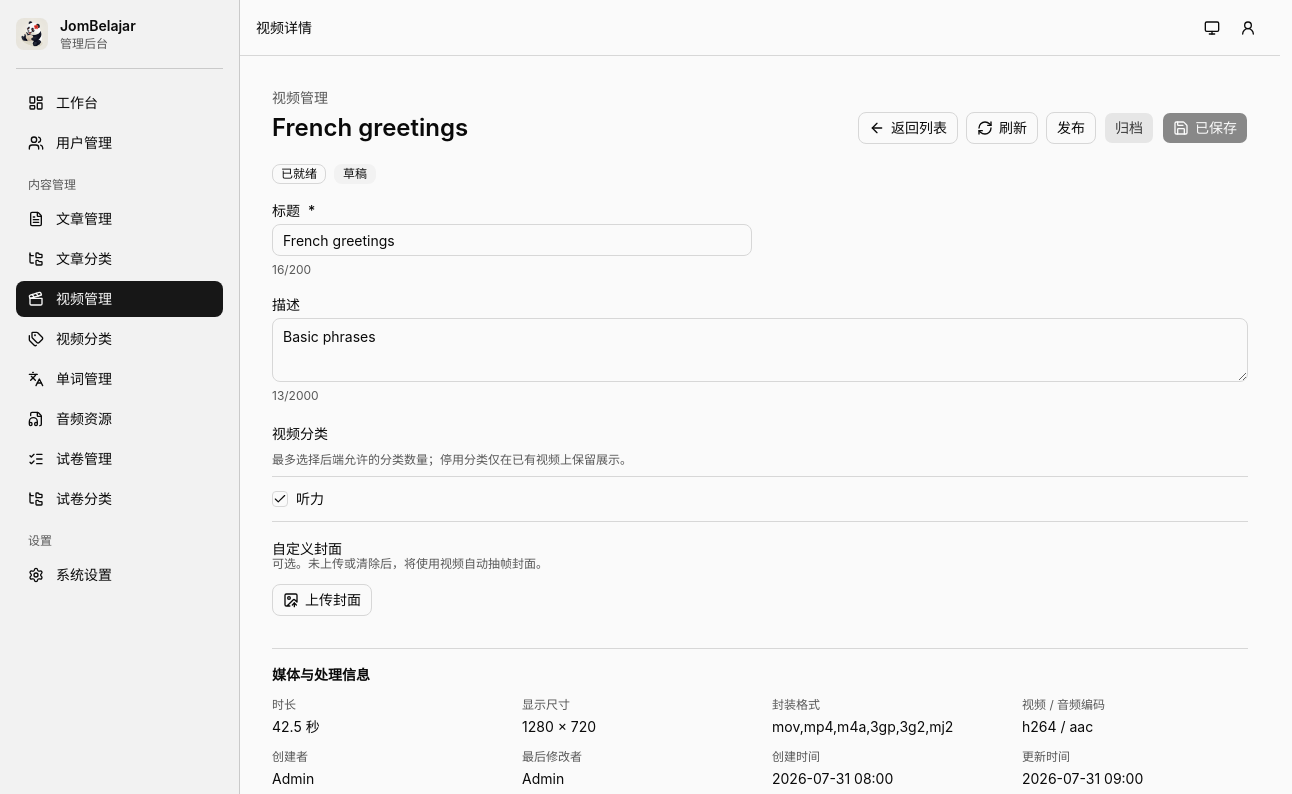
Scenario: VideoDetails › keeps local input when the server reports a concurrency conflict
Replace the text in the field labelled "标题 *" with "Local unsaved title" at (512, 240), box 272,224 -> 752,256
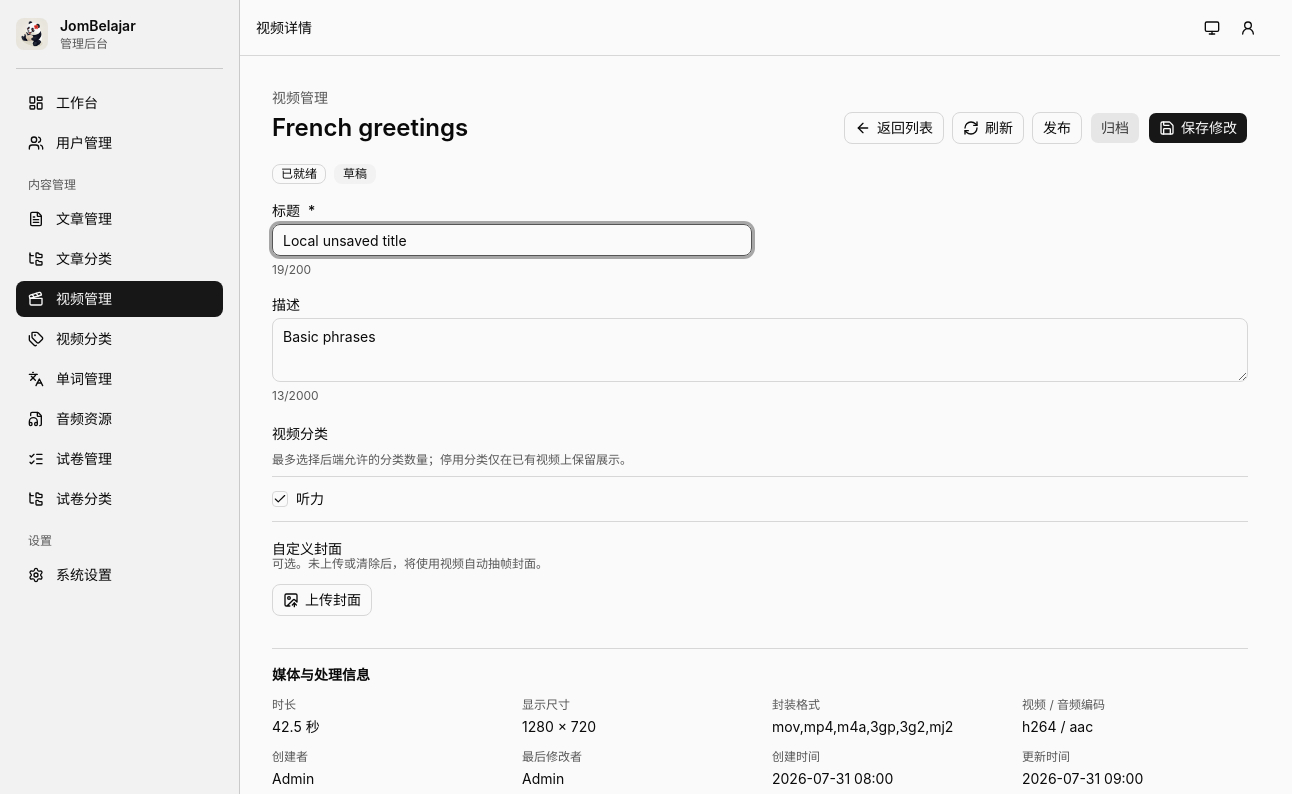
Click the button "保存修改" at (1198, 128), box 1148,112 -> 1248,144
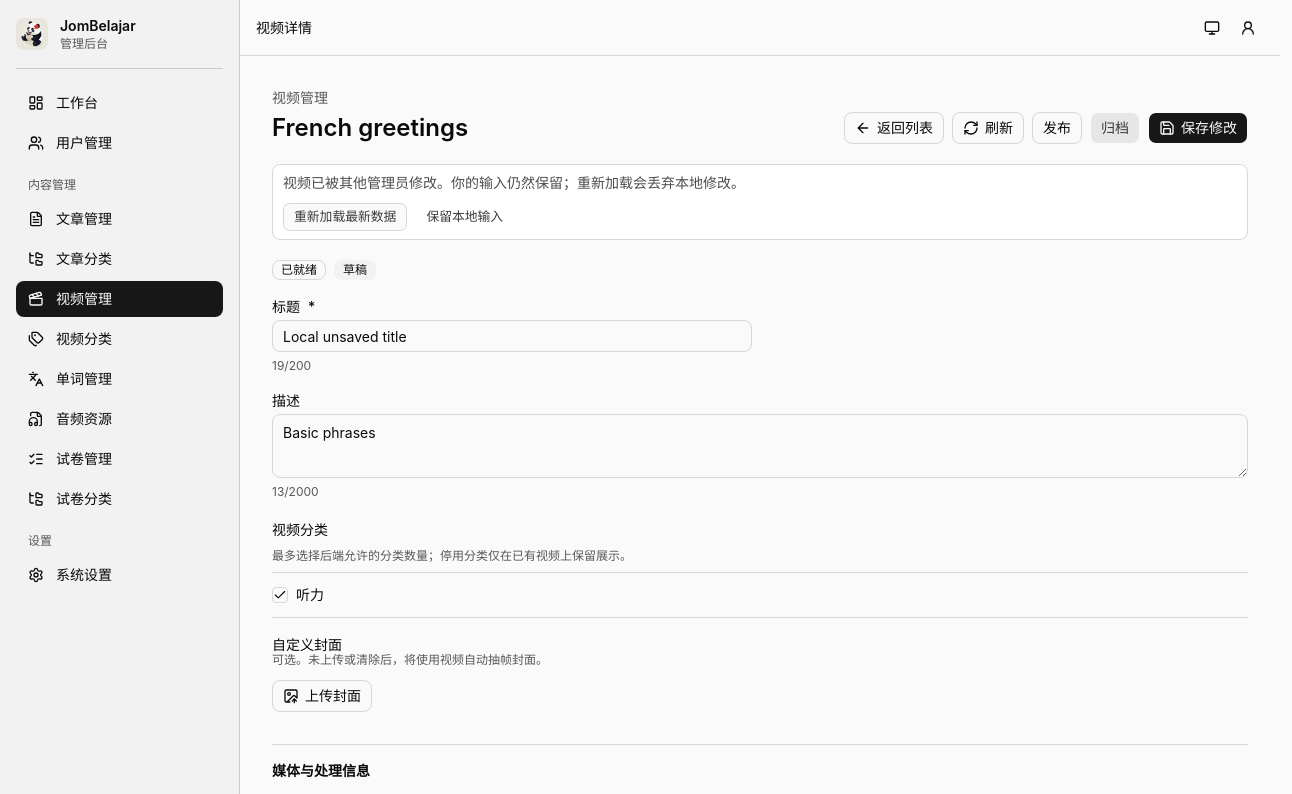
expect the text "视频已被其他管理员修改。你的输入仍然保留；重新加载会丢弃本地修改。" is shown: met, box 283,174 -> 745,191
